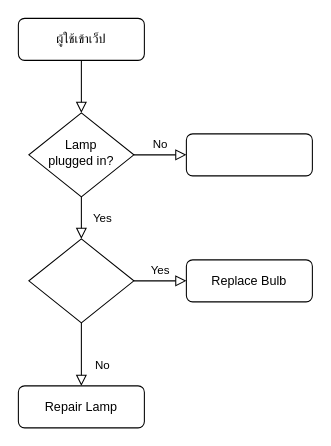
This 331x446 diagram has some shape labels left out. The shapes that lost their labels are listed below. From the top down, each one's box as (x1, y1, x2, y2) in pixels, then its label:
(185, 133, 312, 176): Plug in lamp
(28, 238, 134, 323): Bulb burned out?
